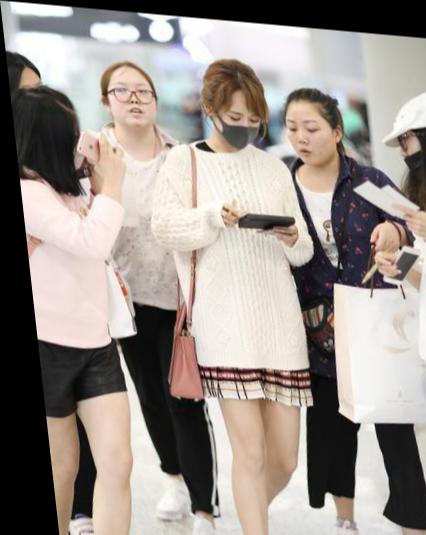NONE: (109, 71, 157, 128), (283, 104, 329, 163)
OK: (215, 92, 263, 147)
WRONG: (394, 117, 426, 180)
